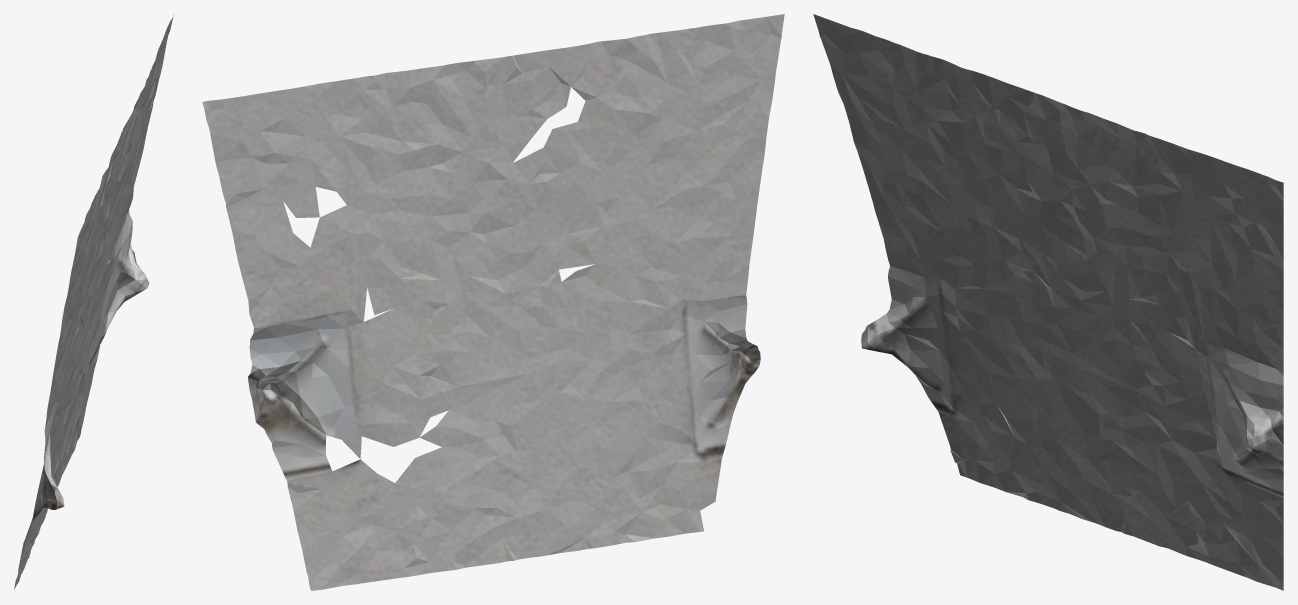
The picture shows the model from 3 angles, left to right: view 1: azimuth 30°, elevation 25°; view 2: azimuth 150°, elevation 25°; view 3: azimuth 270°, elevation 25°; orthographic projection. The views are drawn at different scales.
Size of the model in its own units: 0.6568 by 0.8374 by 0.7741.
3 materials, 3 textured.
